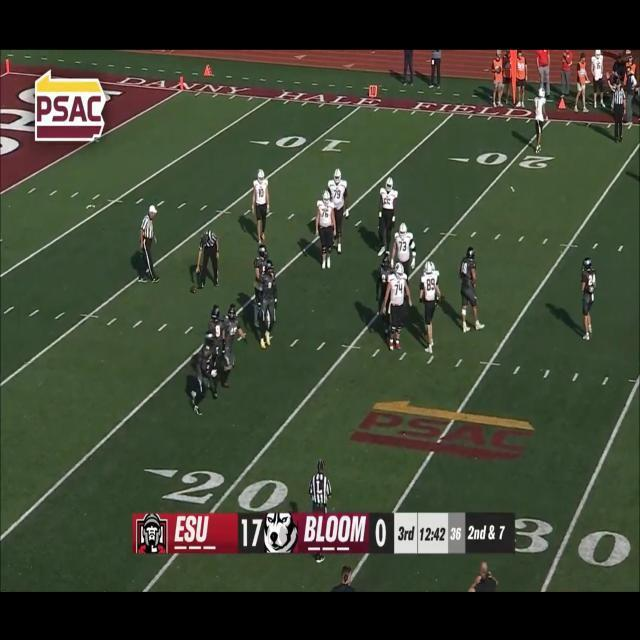football: (190, 284, 198, 294)
